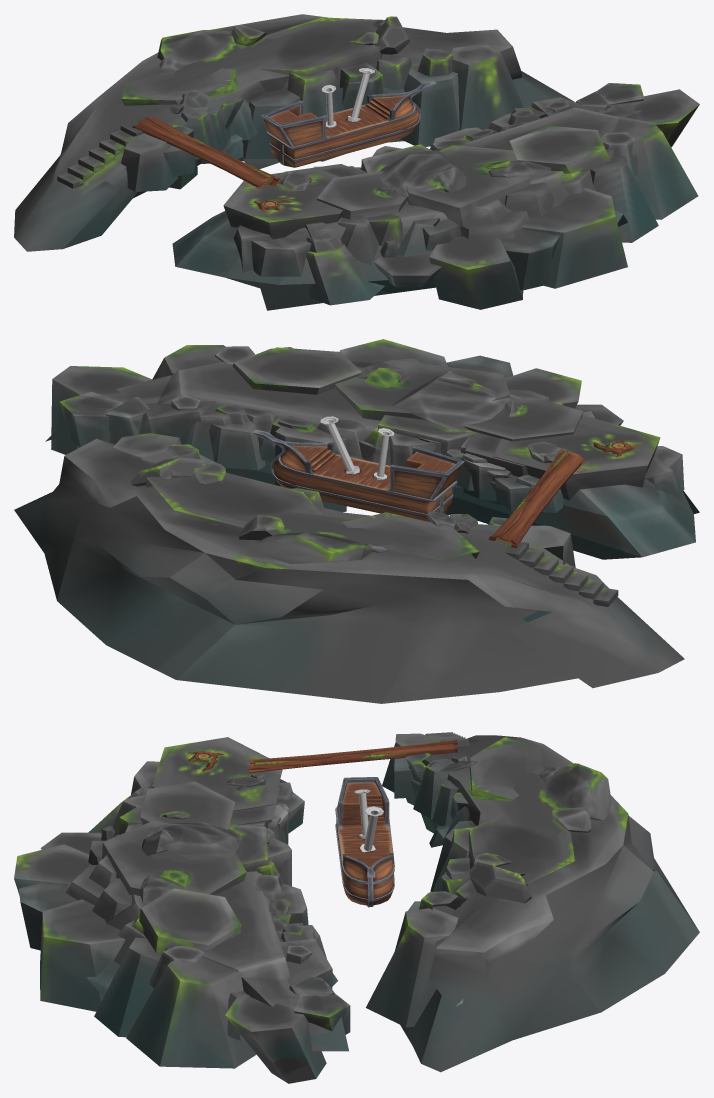
Rendered from Late_1.fbx.
The picture shows the model from 3 angles, top to bottom: view 1: azimuth 30°, elevation 25°; view 2: azimuth 150°, elevation 25°; view 3: azimuth 270°, elevation 25°; orthographic projection. The views are drawn at different scales.
Parts seen in each view (by area): view 1: Island Bot, Island Top, Boat.001, Tree, Boat Mast Front; view 2: Island Top, Island Bot, Boat.001, Tree, Boat Mast Front; view 3: Island Bot, Island Top, Boat.001, Tree.
Part boxes in pixels (x1,y1,x2,y2): Island Bot: [172, 83, 699, 310]; Island Top: [14, 14, 575, 251]; Boat.001: [261, 80, 436, 167]; Tree: [132, 116, 291, 212]; Boat Mast Front: [347, 68, 374, 121]; Island Top: [14, 433, 684, 703]; Island Bot: [45, 339, 699, 559]; Boat.001: [251, 429, 464, 521]; Tree: [488, 441, 638, 548]; Boat Mast Front: [320, 416, 359, 474]; Island Bot: [14, 737, 350, 1083]; Island Top: [366, 732, 699, 1072]; Boat.001: [335, 777, 394, 907]; Tree: [188, 739, 458, 773].
Bounding box in the file's own units: 10403 × 2004 × 9169.
